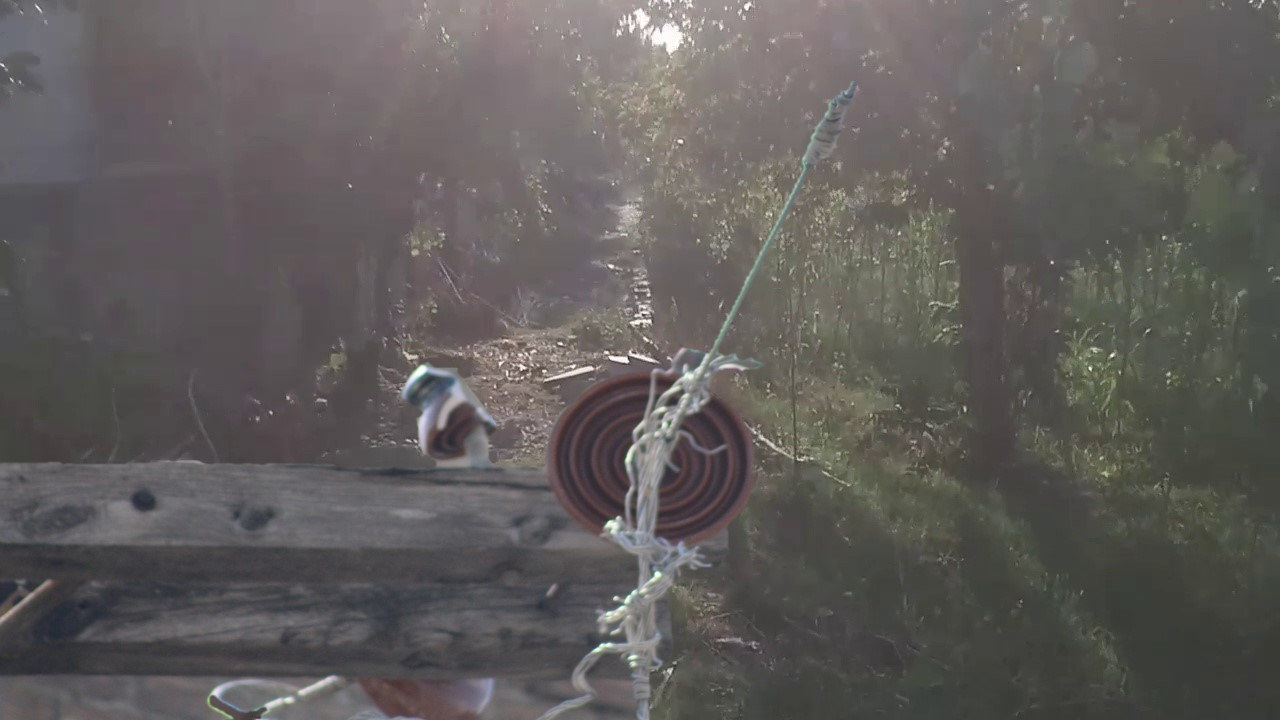defect_pin: (399, 355, 506, 467)
insulator_disc: (545, 367, 763, 552)
